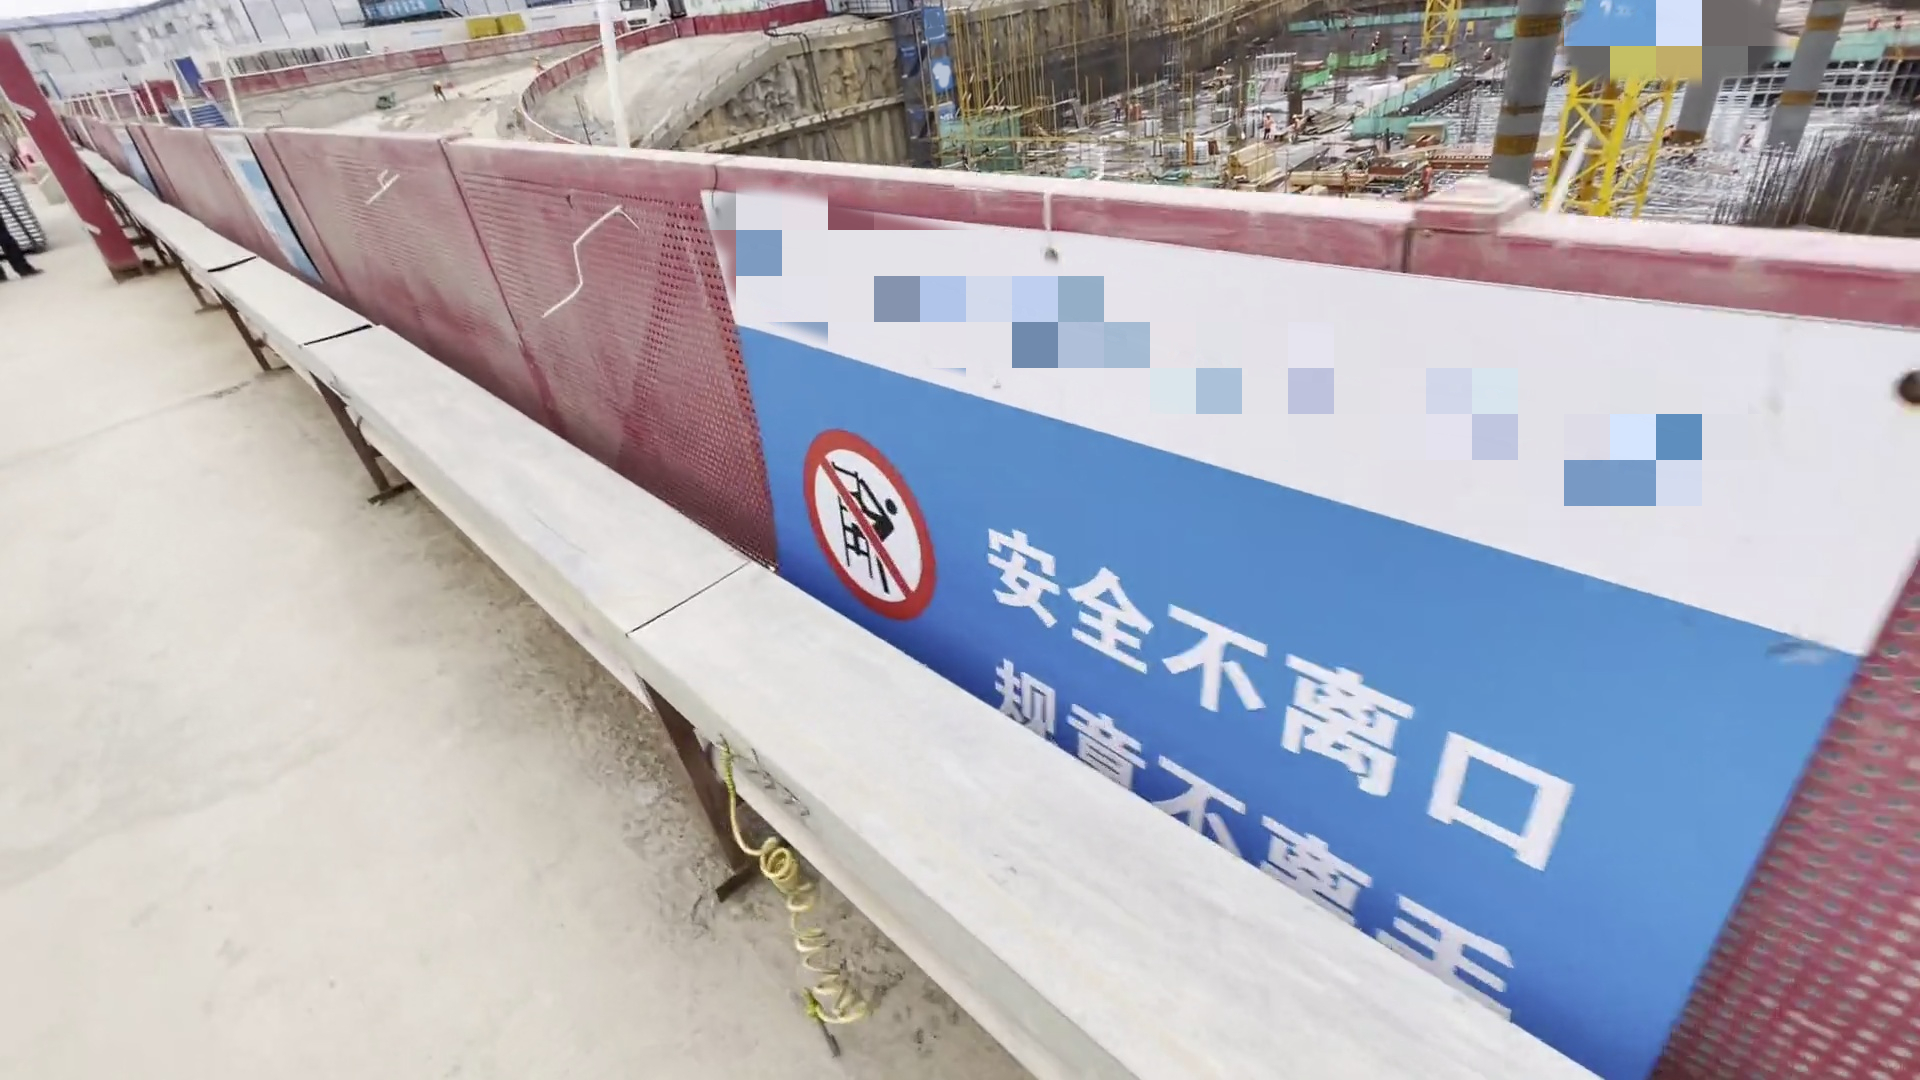fence: (1, 69, 794, 579)
slogan: (732, 214, 1667, 1000), (206, 129, 318, 291)
